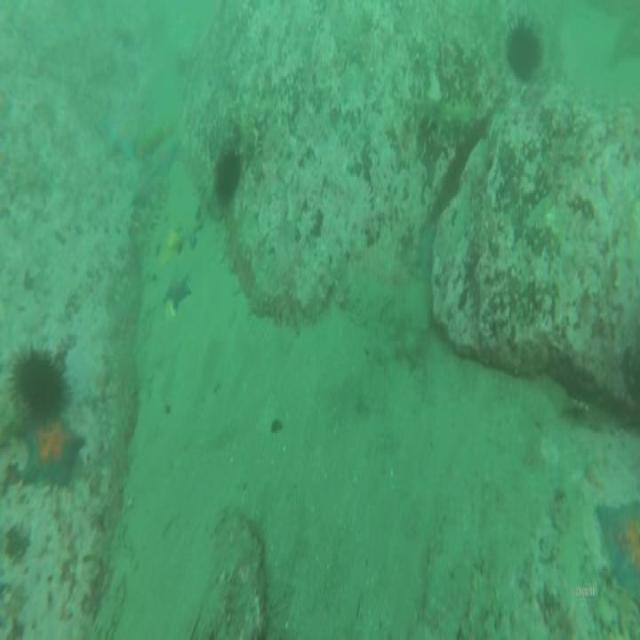echinus: (13, 357, 68, 420), (511, 25, 542, 79), (214, 155, 240, 204)
holothurian: (406, 92, 476, 142)
starfish: (597, 499, 640, 607), (21, 424, 84, 486), (98, 104, 142, 164), (152, 139, 176, 179), (165, 274, 191, 308)
